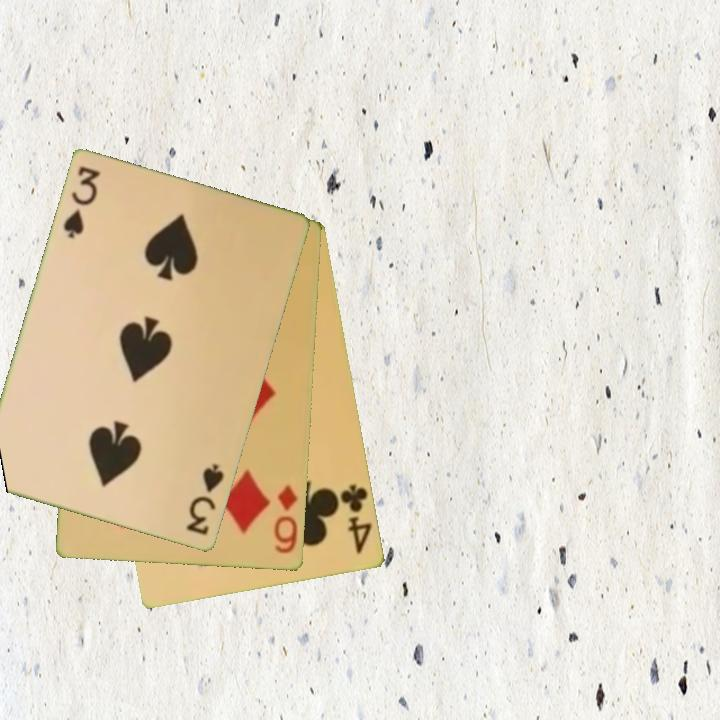3s: (183, 460, 227, 539), (60, 163, 103, 242)
4c: (337, 481, 375, 557)
6d: (270, 482, 301, 557)
